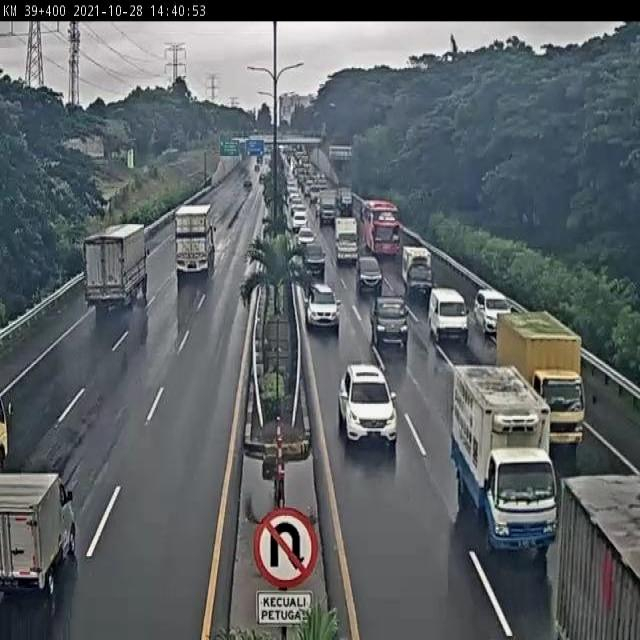Car: (333, 358, 403, 457), (474, 280, 516, 333), (348, 252, 389, 302), (372, 300, 409, 354), (304, 280, 342, 330), (300, 242, 326, 276), (297, 220, 320, 248)
Truck: (449, 363, 556, 550), (553, 476, 640, 638), (498, 312, 584, 444), (2, 472, 76, 600), (76, 215, 154, 322), (174, 203, 216, 276), (359, 199, 400, 256), (401, 246, 432, 297), (334, 216, 358, 266), (318, 189, 338, 224), (336, 188, 354, 215)
Van: (427, 285, 470, 342)
